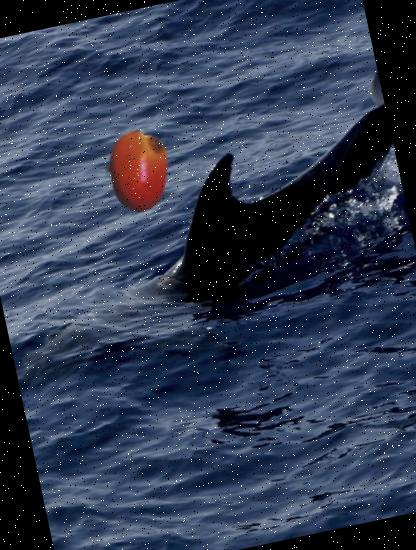Kaki: (87, 122, 187, 222)
